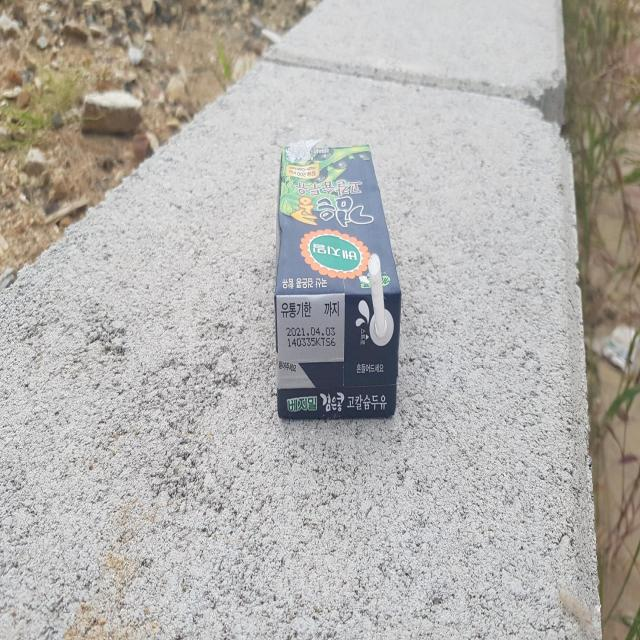paperpack: (275, 140, 402, 418)
